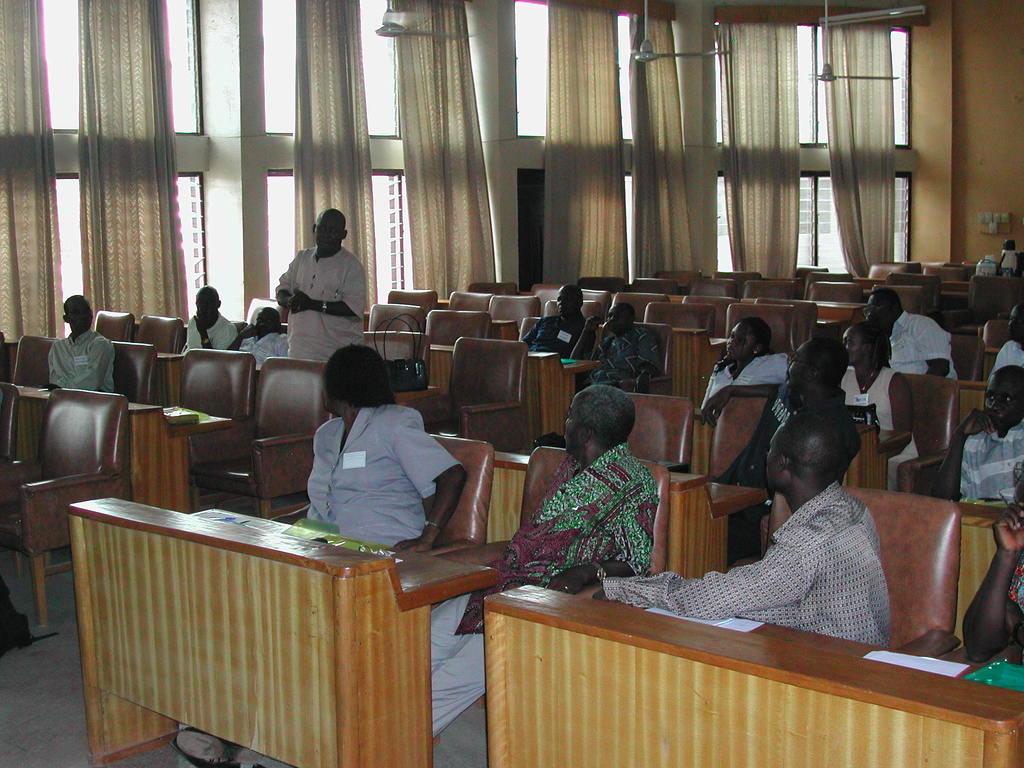Person: (174, 338, 466, 761), (424, 382, 655, 742), (589, 401, 892, 650), (705, 291, 954, 489), (958, 305, 1024, 662), (276, 204, 368, 364), (179, 283, 288, 375), (39, 291, 113, 394), (590, 304, 661, 392), (519, 283, 598, 360)
